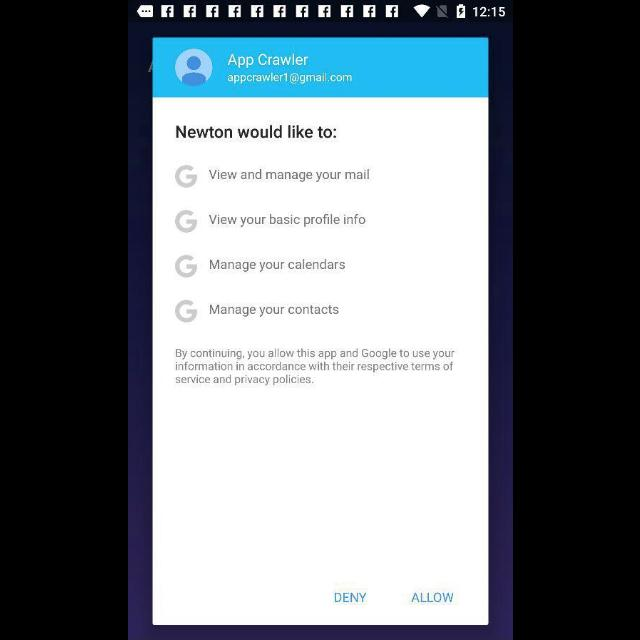icon: (174, 48, 212, 86)
panel: (152, 37, 488, 625)
text: (174, 348, 454, 386), (208, 169, 370, 183), (176, 125, 337, 139), (208, 214, 366, 228), (209, 259, 345, 273), (210, 304, 338, 318), (228, 72, 352, 84), (226, 53, 308, 69), (175, 299, 198, 323), (175, 254, 198, 278), (175, 210, 198, 234), (175, 165, 198, 189), (410, 593, 452, 603), (334, 593, 366, 603)
uppertaskbar: (128, 1, 512, 23)
